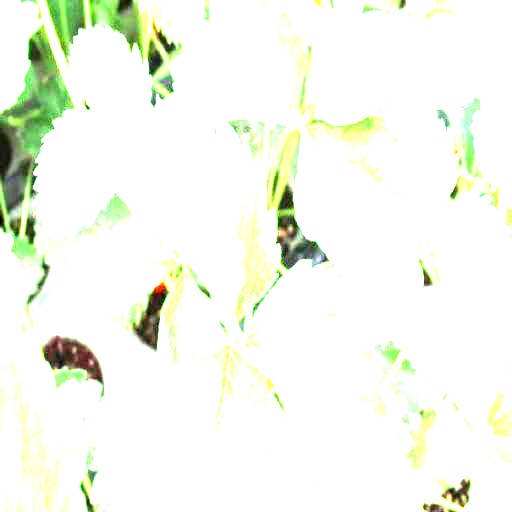Powdery Mildew Leaf: (90, 94, 282, 334), (427, 190, 511, 421)
